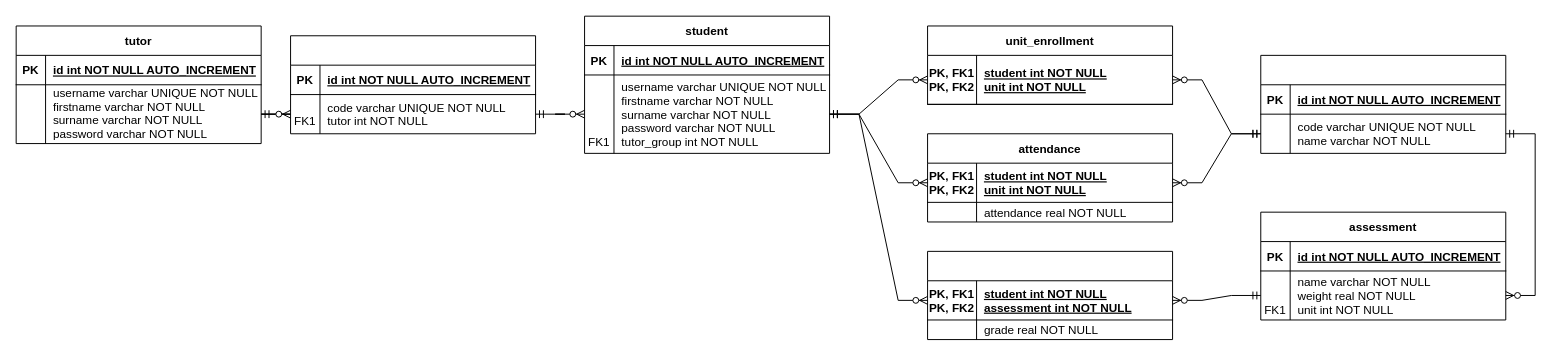
This 1551x356 diagram has some shape labels left out. The shapes that lost their labels are listed below. From the top down, each one's box as (x1, y1, x2, y2) in pixels, then its label:
(290, 35, 536, 134): tutor_group
(1260, 54, 1506, 153): unit
(927, 250, 1173, 340): grades
